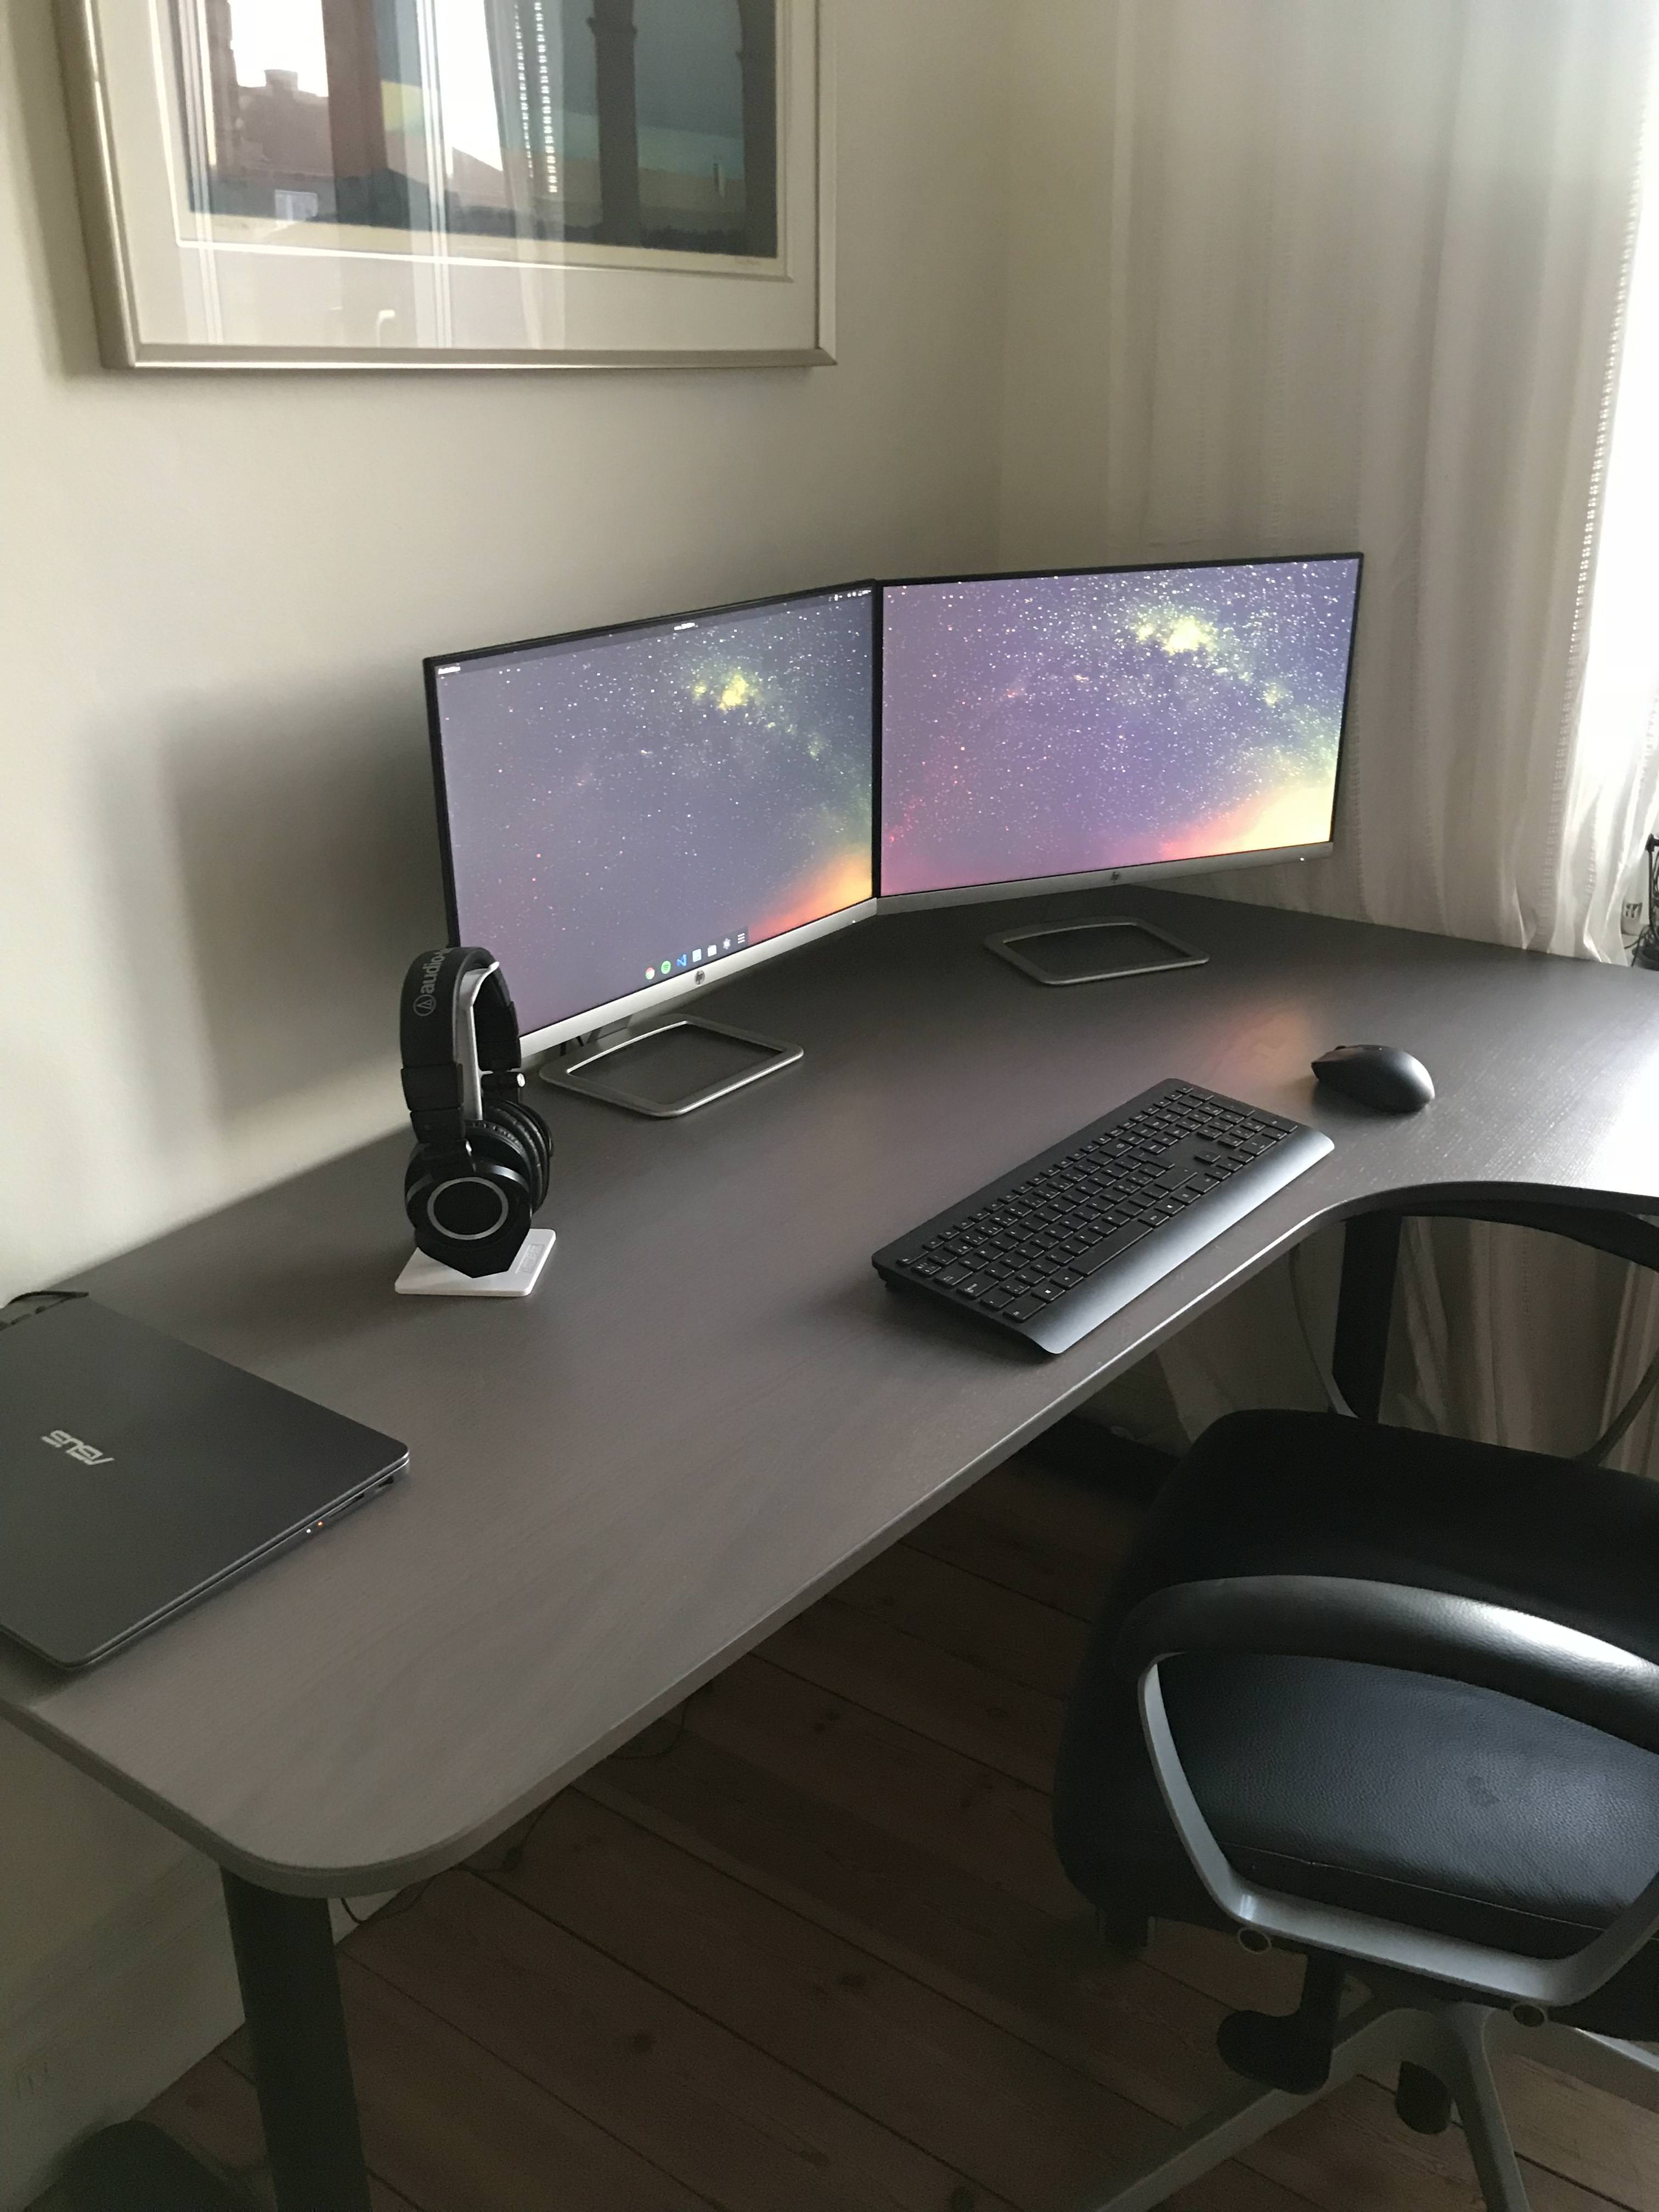Chair (Generic): (995, 1404, 1659, 2202)
Decoration (Picture): (51, 0, 896, 381)
Desk (Generic): (17, 848, 1659, 2142)
Headphones: (380, 913, 575, 1285)
Keyboard (Generic): (849, 1057, 1358, 1366)
Laptop (Linux): (0, 1252, 418, 1693)
Monitor (Landscape): (410, 577, 911, 1113), (863, 545, 1359, 993)
Mouse (Generic): (1304, 1028, 1446, 1120)
